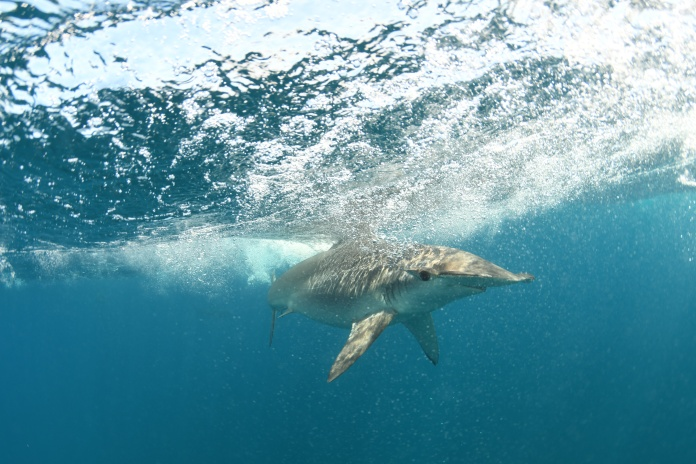Hammer: (216, 190, 551, 388)
